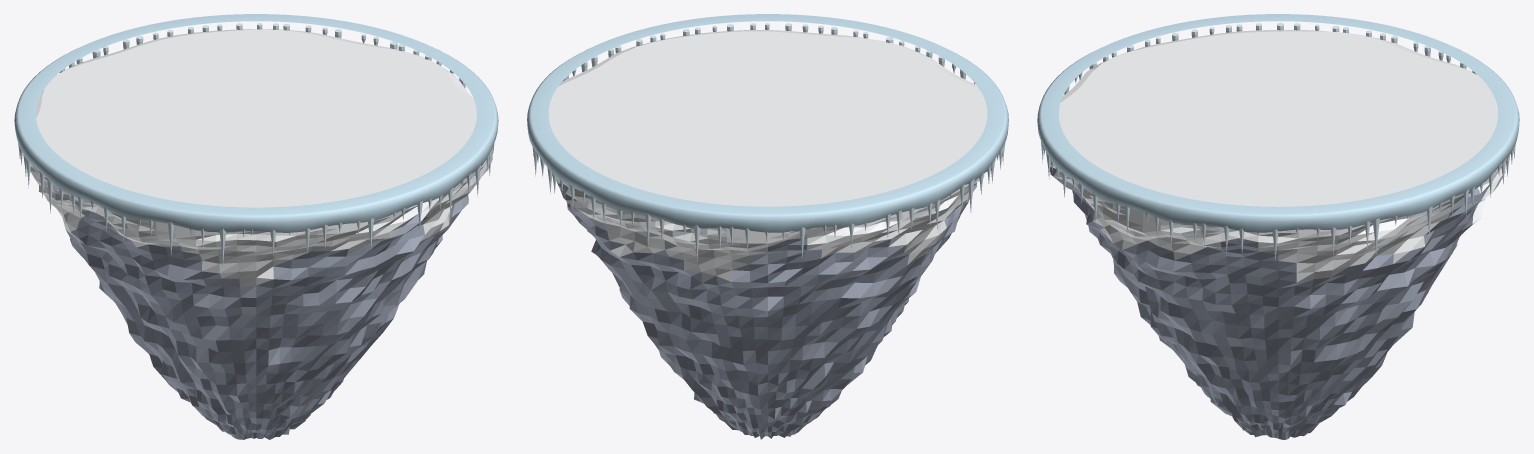
Rendered from SnowballSummitPeak.glb.
The picture shows the model from 3 angles, left to right: view 1: azimuth 30°, elevation 25°; view 2: azimuth 150°, elevation 25°; view 3: azimuth 270°, elevation 25°; orthographic projection.
Parts seen in each view (by area): view 1: Snow, Rock, Ice, Icicles; view 2: Snow, Rock, Ice, Icicles; view 3: Snow, Rock, Ice, Icicles.
Boxes of the visible parts, x1,y1,x2,y2 form: Snow: [30, 29, 493, 286]; Rock: [66, 195, 468, 439]; Ice: [14, 14, 498, 232]; Icicles: [18, 23, 494, 266]; Snow: [548, 30, 996, 283]; Rock: [557, 183, 976, 439]; Ice: [527, 14, 1008, 232]; Icicles: [532, 23, 1005, 262]; Snow: [1050, 30, 1506, 282]; Rock: [1050, 167, 1489, 439]; Ice: [1037, 14, 1519, 232]; Icicles: [1041, 22, 1515, 262].
Size of the model in its own units: 65 by 46 by 65.
